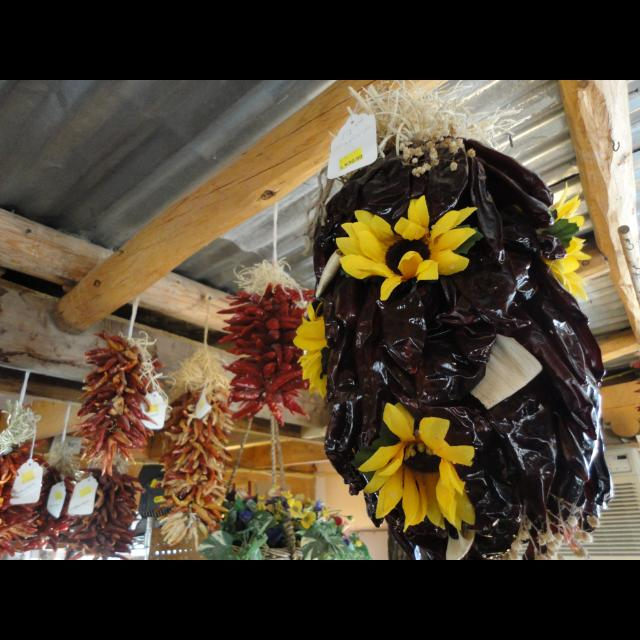Flower: (354, 401, 478, 532), (332, 199, 492, 289), (290, 300, 332, 398), (500, 516, 588, 560), (397, 122, 463, 178), (543, 234, 593, 302), (548, 180, 584, 230), (256, 490, 284, 522), (286, 498, 306, 520), (300, 510, 318, 530), (572, 530, 592, 544), (586, 514, 600, 528), (310, 500, 326, 512), (328, 514, 342, 526), (338, 519, 349, 533), (342, 534, 353, 548), (278, 490, 290, 502), (566, 516, 578, 526), (466, 148, 476, 158), (353, 540, 362, 550), (449, 162, 457, 170)
